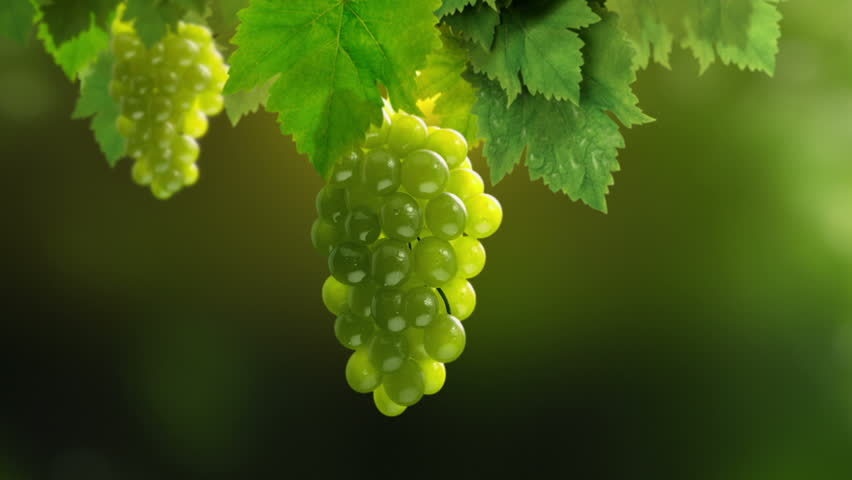grapes: (324, 112, 492, 411), (114, 23, 211, 216)
